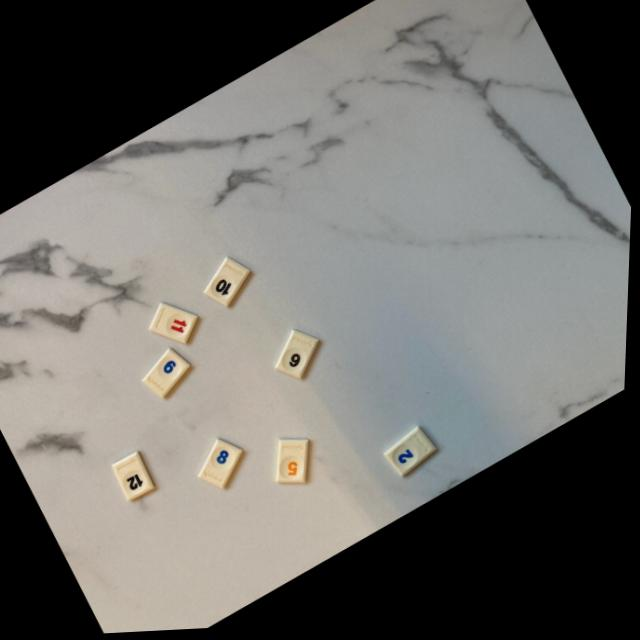black_10: (206, 259, 252, 308)
black_12: (115, 453, 158, 502)
black_6: (279, 332, 321, 381)
blue_2: (387, 430, 440, 480)
blue_6: (146, 349, 193, 399)
blue_8: (203, 440, 246, 491)
orange_5: (280, 442, 311, 485)
red_11: (152, 304, 200, 345)
